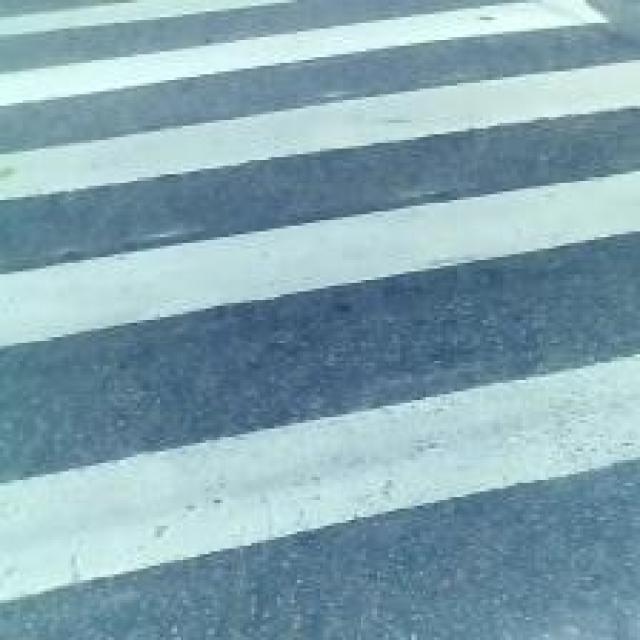zebra: (5, 20, 640, 637)
